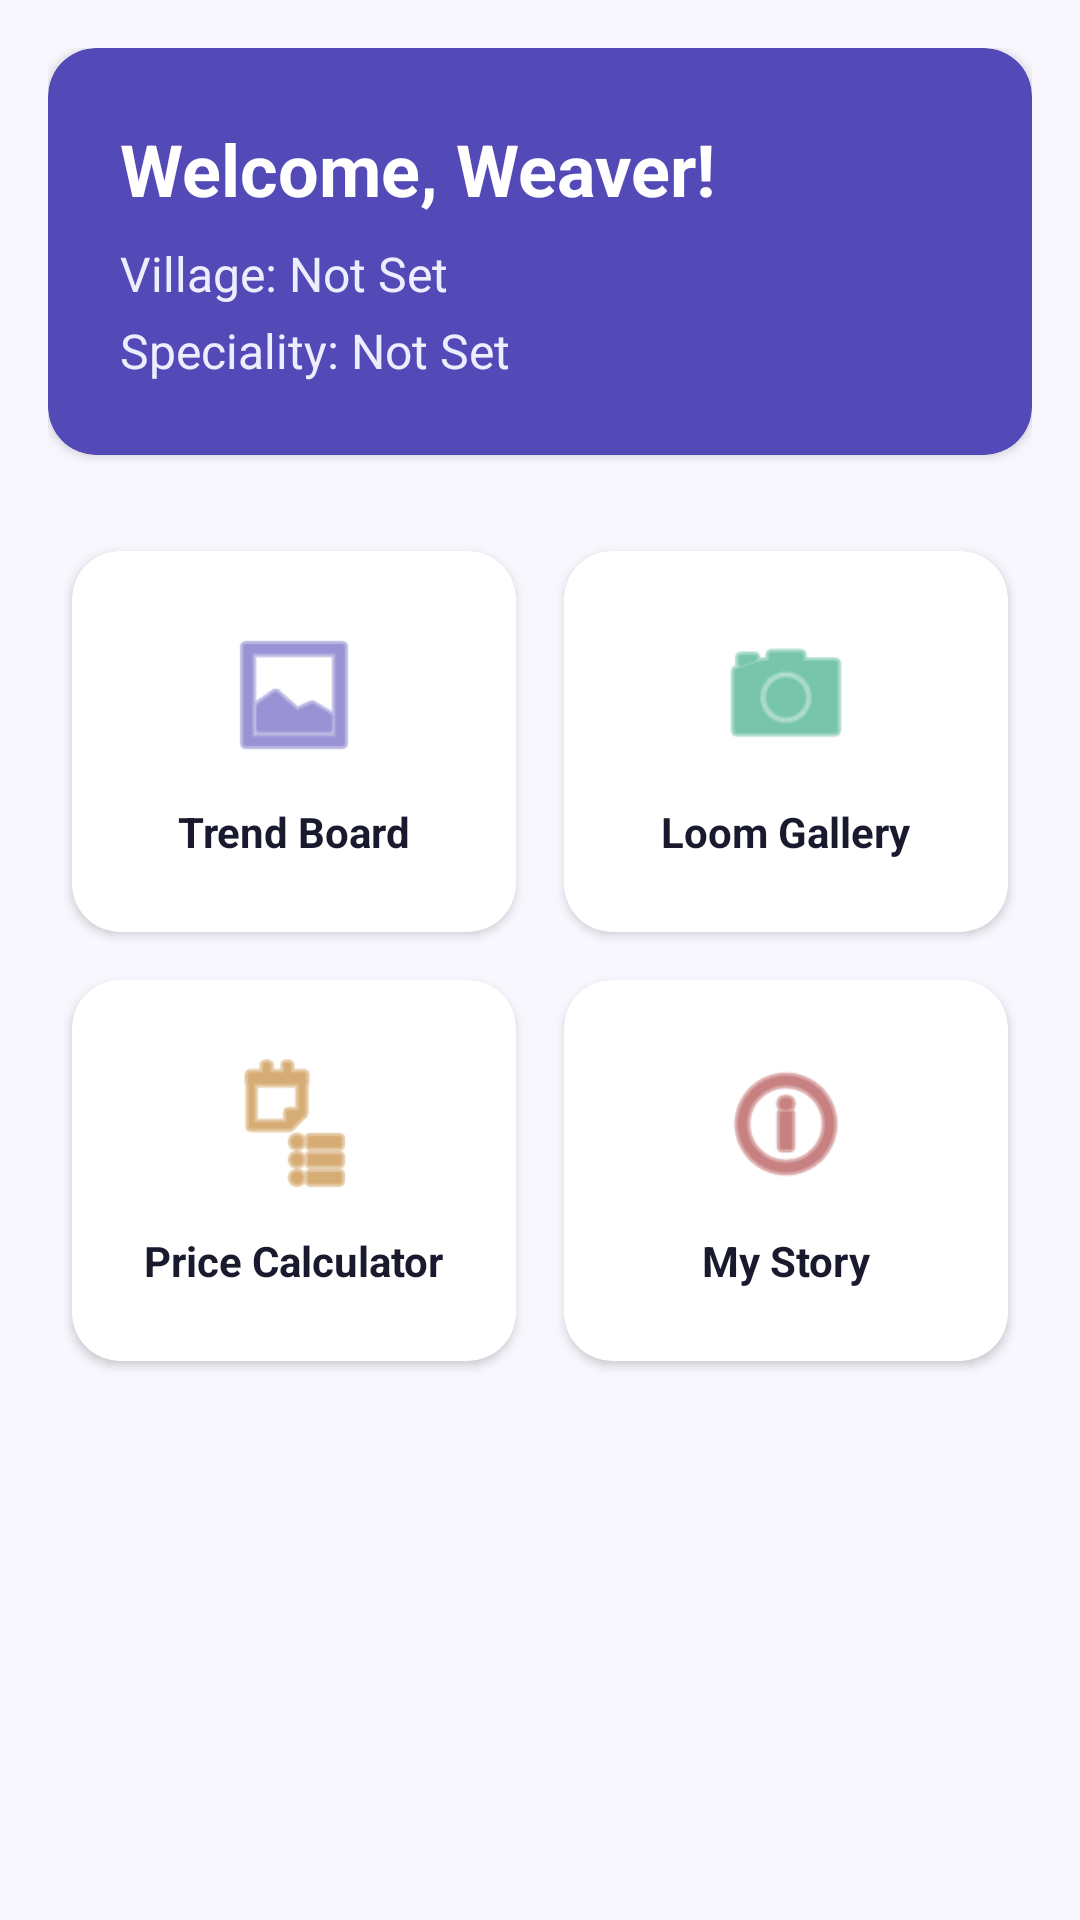

Screen size 1080 × 1920. Icon name, then its box in pixels as (x1, y1, x2, y2):
agenda: (244, 1059, 345, 1187)
camera: (730, 648, 842, 737)
gallery: (240, 641, 348, 749)
info details: (734, 1072, 838, 1176)
